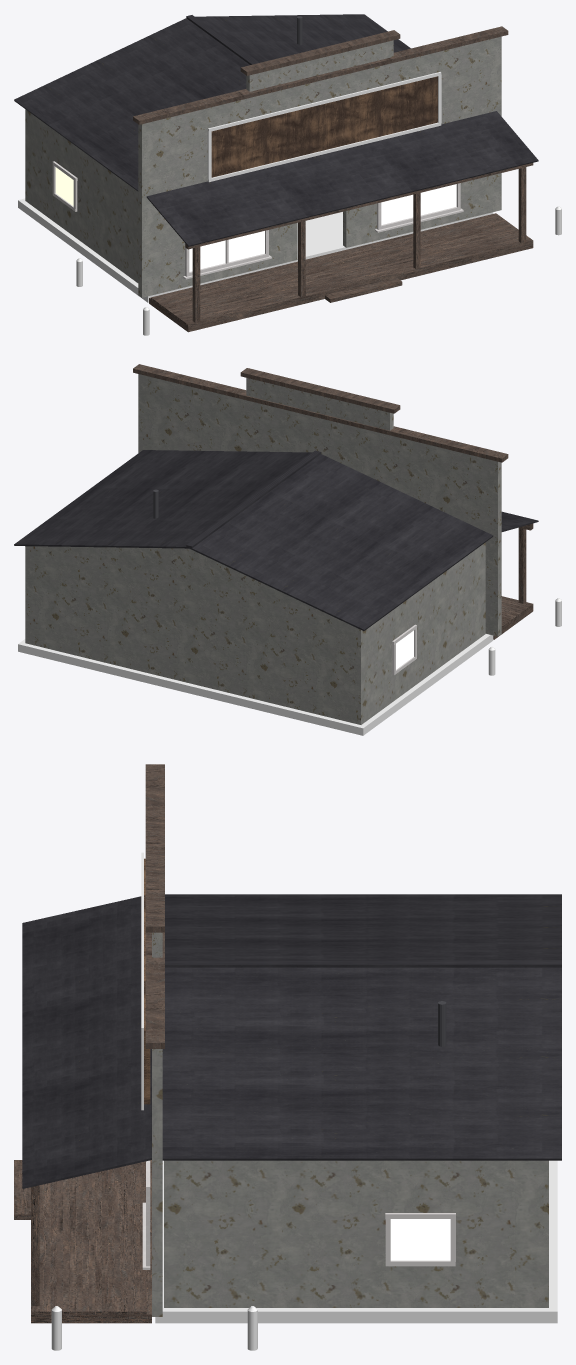
File: stationV1.glb
3 renders of one model, top to bottom at view 1: azimuth 30°, elevation 25°; view 2: azimuth 150°, elevation 25°; view 3: azimuth 270°, elevation 25°, orthographic. The views are drawn at different scales.
Visible parts, largest first — view 1: Store_FalseFront, Porch_Roof, Porch_Step, Store_Roof-1, Store_SignBoard, Store_Body, Store_Roof1, Store_Foundation, Store_Cornice, Store_FalseFrontStep, Store_SignTrim, Store_Trim (+6 smaller); view 2: Store_Body, Store_Roof-1, Store_FalseFront, Store_Roof1, Store_Foundation, Store_BackGable, Store_Cornice, Store_FalseFrontStep, Store_CorniceStep, Porch_Step, Store_RoofRidge, Store_SideWindow-1; view 3: Store_Roof1, Store_Body, Porch_Roof, Store_Roof-1, Porch_Step, Store_Foundation, Store_RoofRidge, Store_Cornice, Store_FalseFront, Store_SideWindow1, Store_CorniceStep, Store_SideTrim (+3 smaller).
Part boxes in pixels (x1,y1,x2,y2): Store_FalseFront: (138,36,501,297); Porch_Roof: (146,111,538,246); Porch_Step: (149,163,533,332); Store_Roof-1: (14,18,249,191); Store_SignBoard: (211,76,437,177); Store_Body: (25,109,138,282); Store_Roof1: (195,14,410,62); Store_Foundation: (18,198,493,302); Store_Cornice: (133,26,508,124); Store_FalseFrontStep: (246,40,393,91); Store_SignTrim: (207,72,441,182); Store_Trim: (183,183,463,279); Store_Body: (25,542,485,724); Store_Roof-1: (189,454,493,630); Store_FalseFront: (138,374,501,636); Store_Roof1: (14,450,312,548); Store_Foundation: (18,634,493,735); Store_BackGable: (40,546,337,618); Store_Cornice: (133,364,508,462); Store_FalseFrontStep: (246,378,393,430); Store_CorniceStep: (240,368,400,413); Porch_Step: (493,523,533,639); Store_RoofRidge: (186,450,321,548); Store_SideWindow-1: (396,630,413,669); Store_Roof1: (162,967,561,1160); Store_Body: (164,1160,548,1307); Porch_Roof: (22,896,151,1188); Store_Roof-1: (165,894,561,960); Porch_Step: (14,1160,151,1323); Store_Foundation: (155,1160,557,1323); Store_RoofRidge: (165,960,561,967); Store_Cornice: (145,764,164,1048); Store_FalseFront: (152,1049,162,1316); Store_SideWindow1: (390,1219,450,1260); Store_CorniceStep: (145,810,164,932); Store_SideTrim: (385,1213,455,1266).
Bounding box in the file's own units: 17.44 × 8.36 × 12.8.
12 materials, 6 textured.
